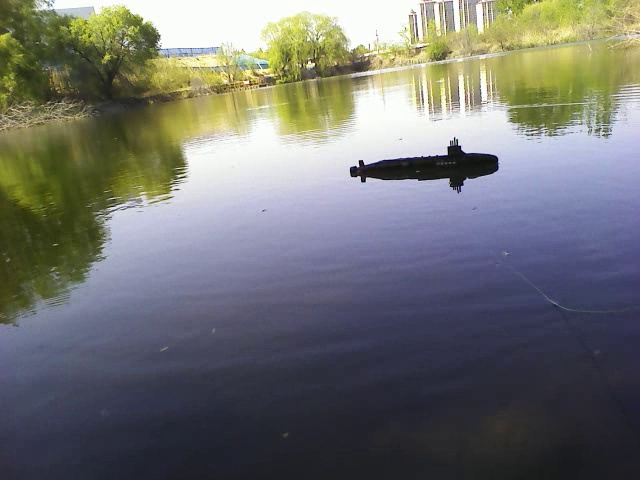submarine: (343, 140, 505, 185)
